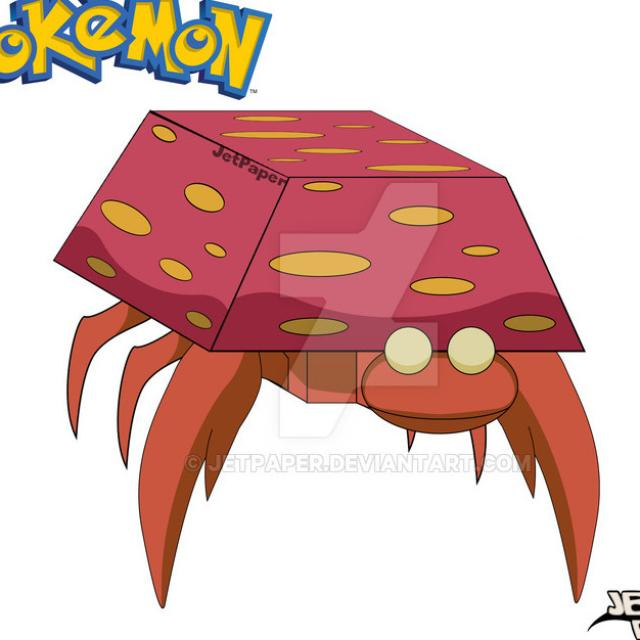Parasect: (81, 99, 604, 600)
